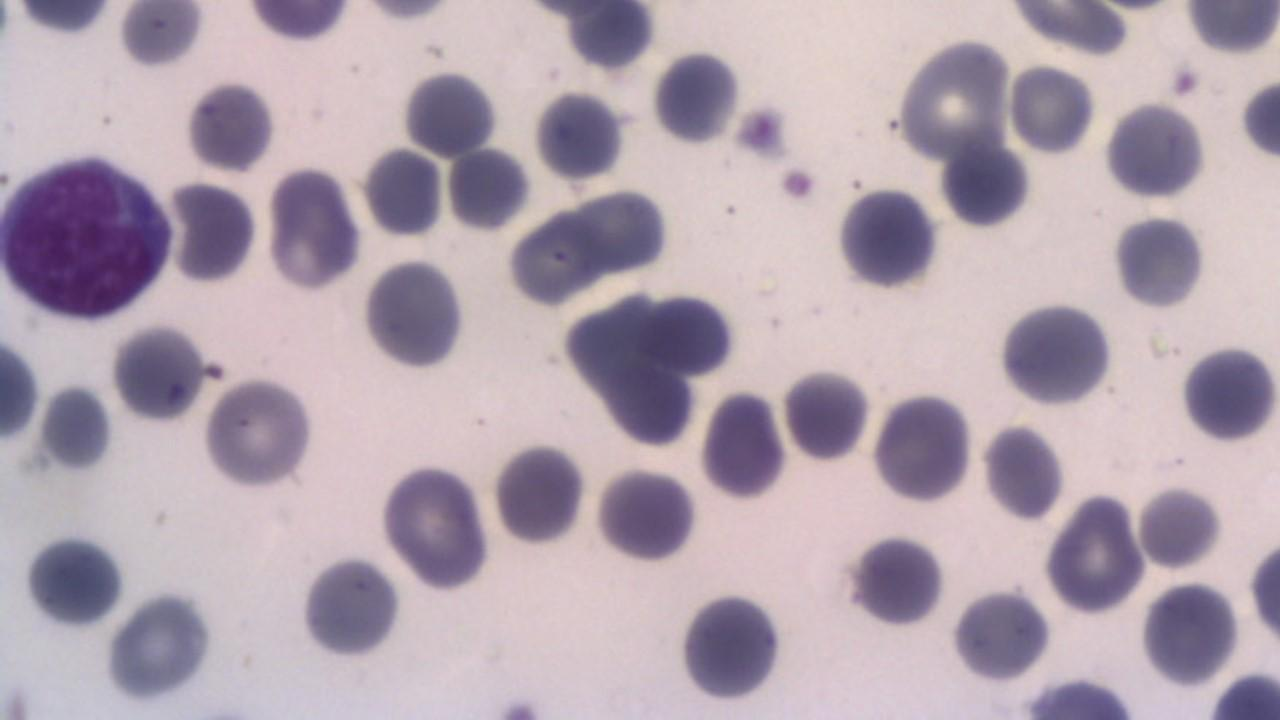Platelets: (673, 583, 792, 704), (103, 585, 223, 704), (296, 552, 404, 663), (833, 184, 941, 294), (590, 462, 704, 564), (840, 528, 952, 630), (1106, 208, 1212, 313), (20, 530, 129, 632), (490, 439, 588, 549), (1178, 341, 1278, 447), (108, 320, 205, 427), (648, 45, 745, 149), (530, 87, 630, 183), (782, 362, 874, 465), (937, 133, 1032, 232), (184, 78, 279, 177), (980, 421, 1070, 522), (37, 380, 116, 477), (115, 1, 204, 71), (0, 333, 44, 443), (1236, 75, 1280, 163), (13, 1, 114, 35), (730, 102, 791, 157), (774, 164, 820, 204), (1167, 60, 1203, 102)
RBC: (894, 32, 1010, 166), (379, 458, 492, 594), (994, 292, 1121, 411), (200, 374, 318, 492), (358, 253, 468, 371), (870, 386, 976, 506), (832, 181, 946, 292), (264, 163, 360, 294), (1137, 575, 1241, 691), (593, 460, 703, 566), (1177, 335, 1279, 447), (1102, 100, 1212, 203), (696, 385, 791, 502), (946, 583, 1055, 683), (491, 438, 588, 550), (399, 66, 502, 158), (781, 363, 873, 465), (1006, 60, 1098, 158), (446, 144, 532, 233), (244, 0, 354, 44), (0, 332, 42, 446), (1249, 528, 1280, 658)
WBC: (811, 47, 1280, 720), (0, 146, 180, 325), (994, 292, 1118, 410), (360, 255, 472, 372), (296, 550, 408, 662), (832, 184, 943, 294), (1101, 96, 1209, 204)
